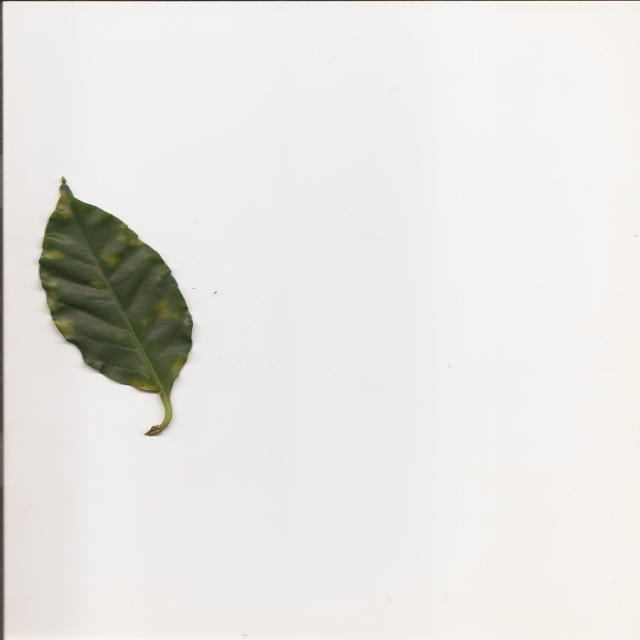Enfermedad-Roya: (36, 181, 195, 439)
